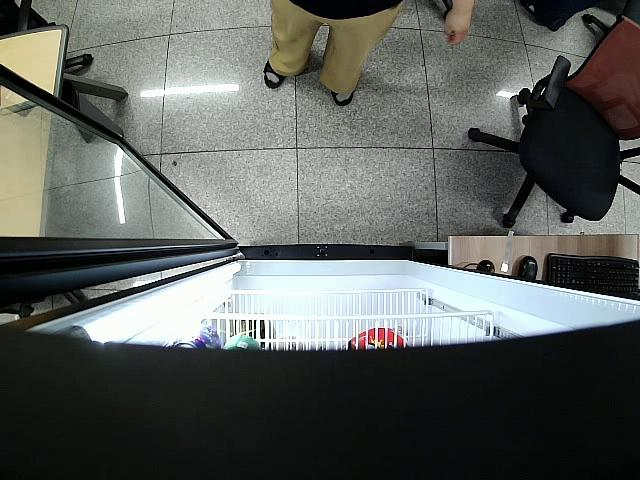00_hand: (445, 11, 473, 45)
